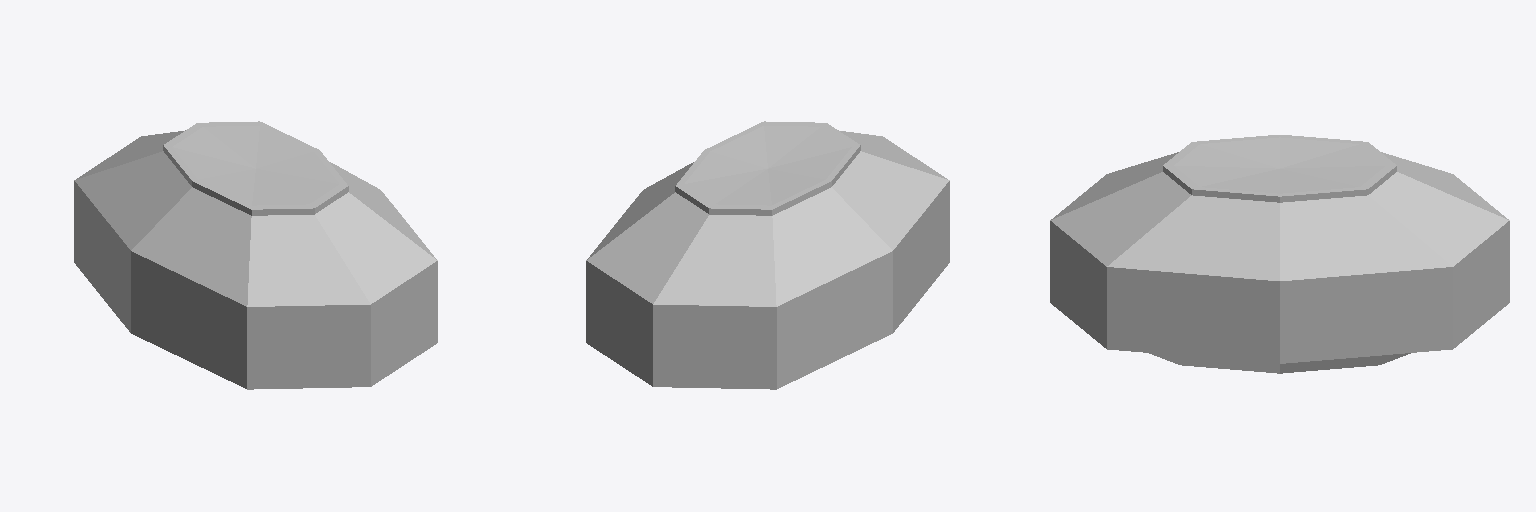
File: Arena.obj
3 renders of one model, left to right at view 1: azimuth 30°, elevation 25°; view 2: azimuth 150°, elevation 25°; view 3: azimuth 270°, elevation 25°, orthographic.
Parts seen in each view (by area): view 1: Arena_Cube.001; view 2: Arena_Cube.001; view 3: Arena_Cube.001.
Part boxes in pixels (x1,y1,x2,y2): Arena_Cube.001: (74,121,437,389); Arena_Cube.001: (586,121,949,389); Arena_Cube.001: (1050,135,1509,373).
Bounding box in the file's own units: 570 × 394 × 907.